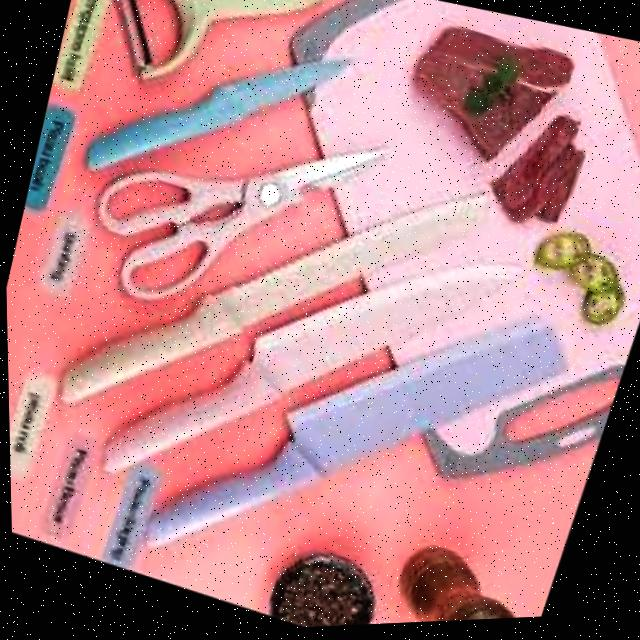knife: (126, 230, 579, 636), (43, 102, 496, 497), (86, 178, 534, 567), (72, 1, 358, 231)
